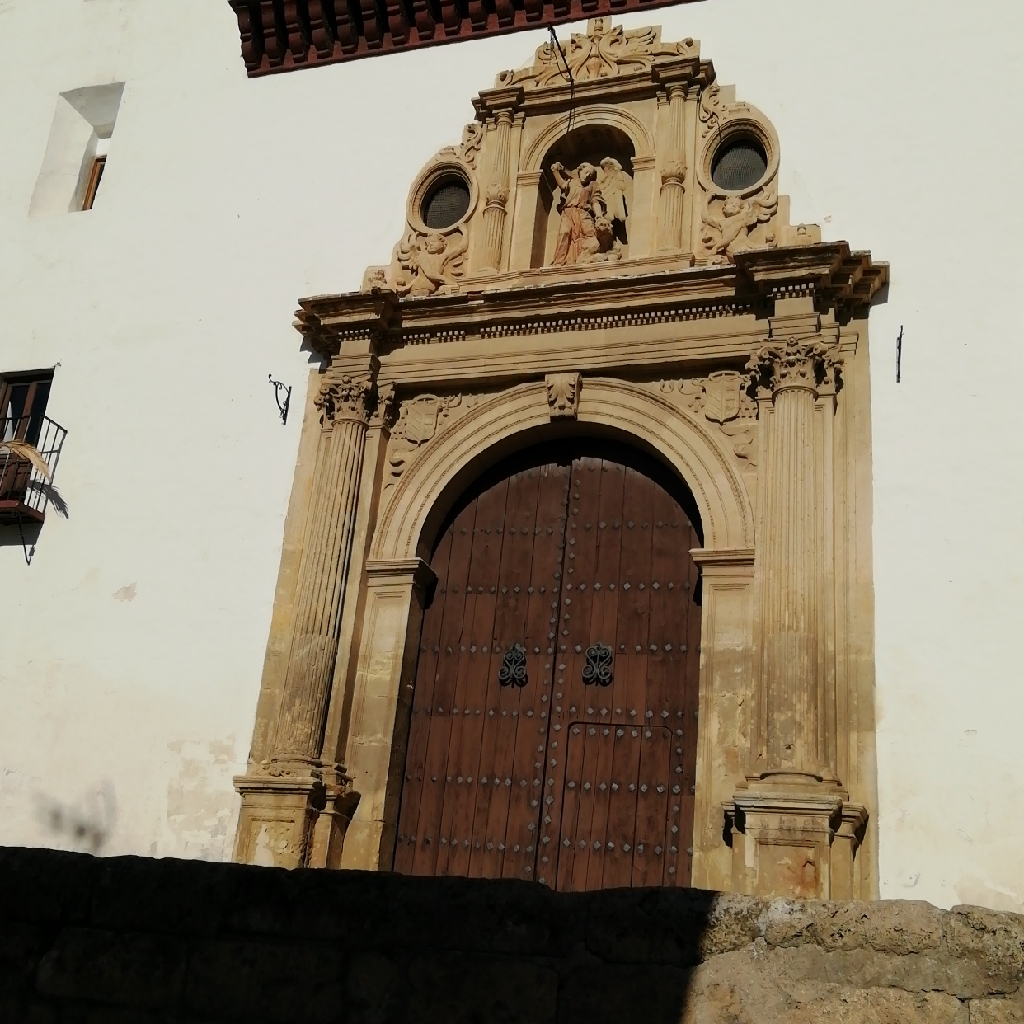arco-medio-punto: (407, 403, 728, 607), (533, 114, 649, 183)
ojo-de-buey: (695, 113, 782, 191), (406, 158, 477, 229)
